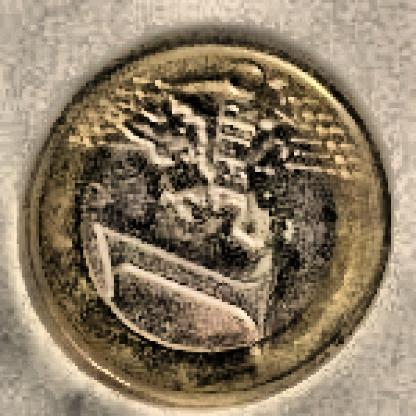coin: (18, 37, 394, 413)
